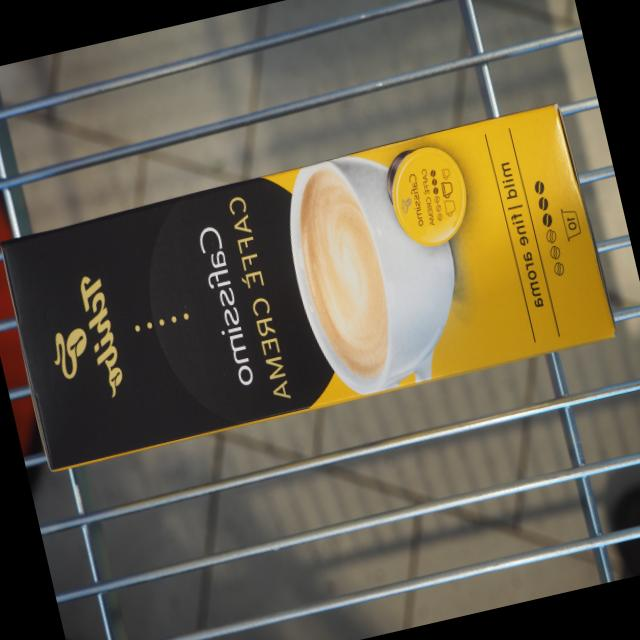Simo CCMild bigpack: (0, 99, 621, 477)
